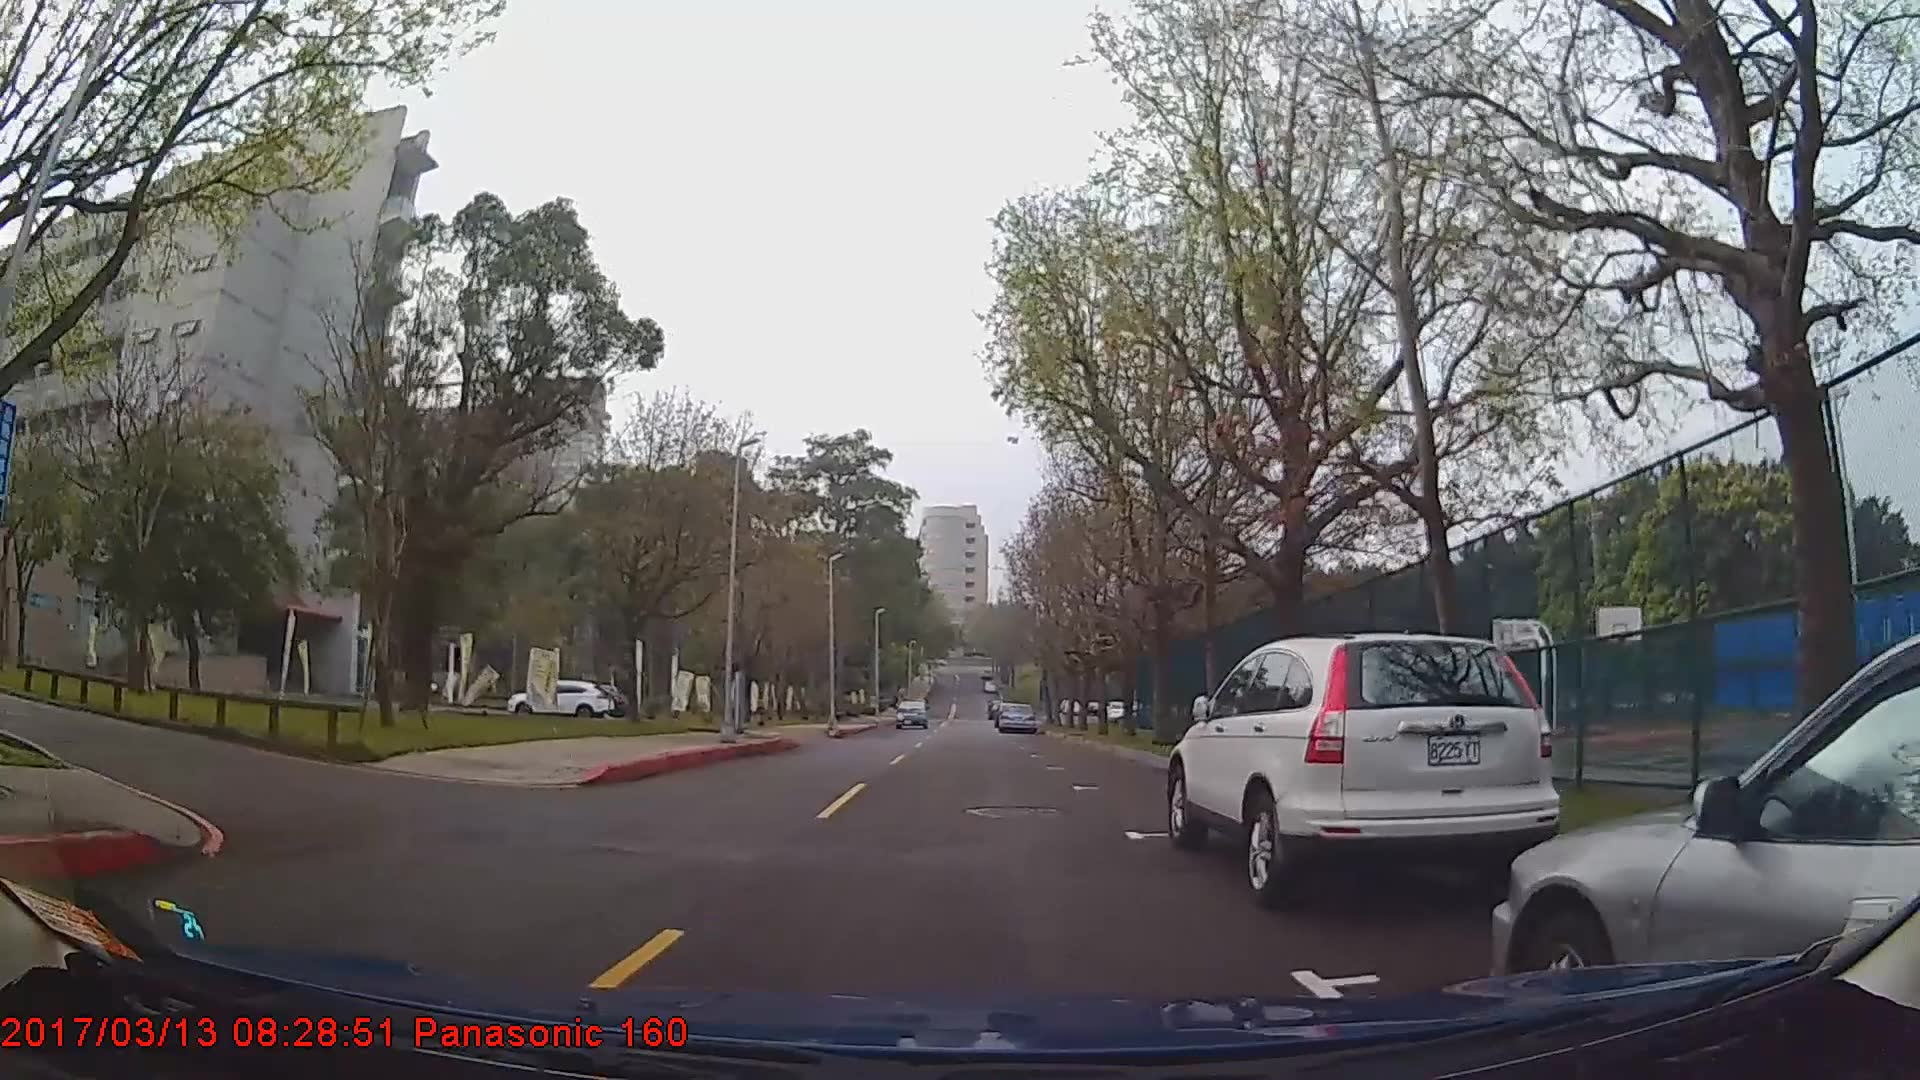vehicle: (1491, 636, 1917, 1025), (1164, 628, 1564, 893), (505, 676, 615, 716), (996, 699, 1036, 732), (893, 694, 930, 727)
